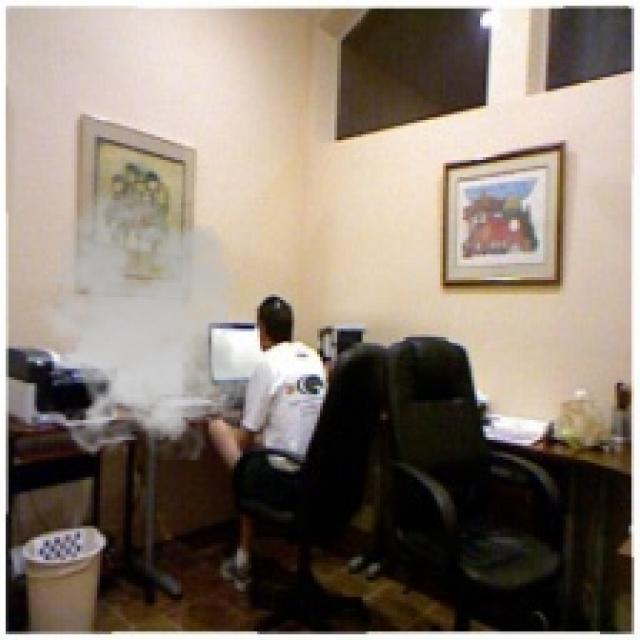Smoke: (22, 188, 268, 461)
